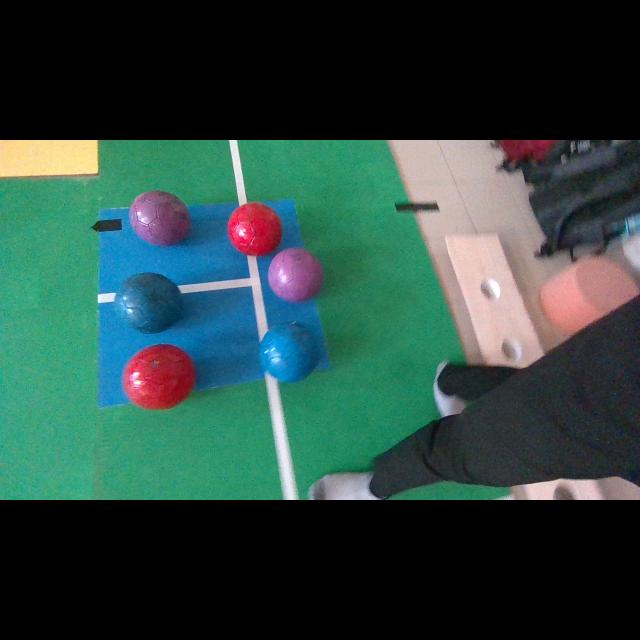B: (115, 272, 184, 334), (259, 322, 320, 382)
P: (129, 190, 191, 246), (269, 248, 324, 302)
R: (122, 344, 196, 409), (228, 202, 282, 256)
